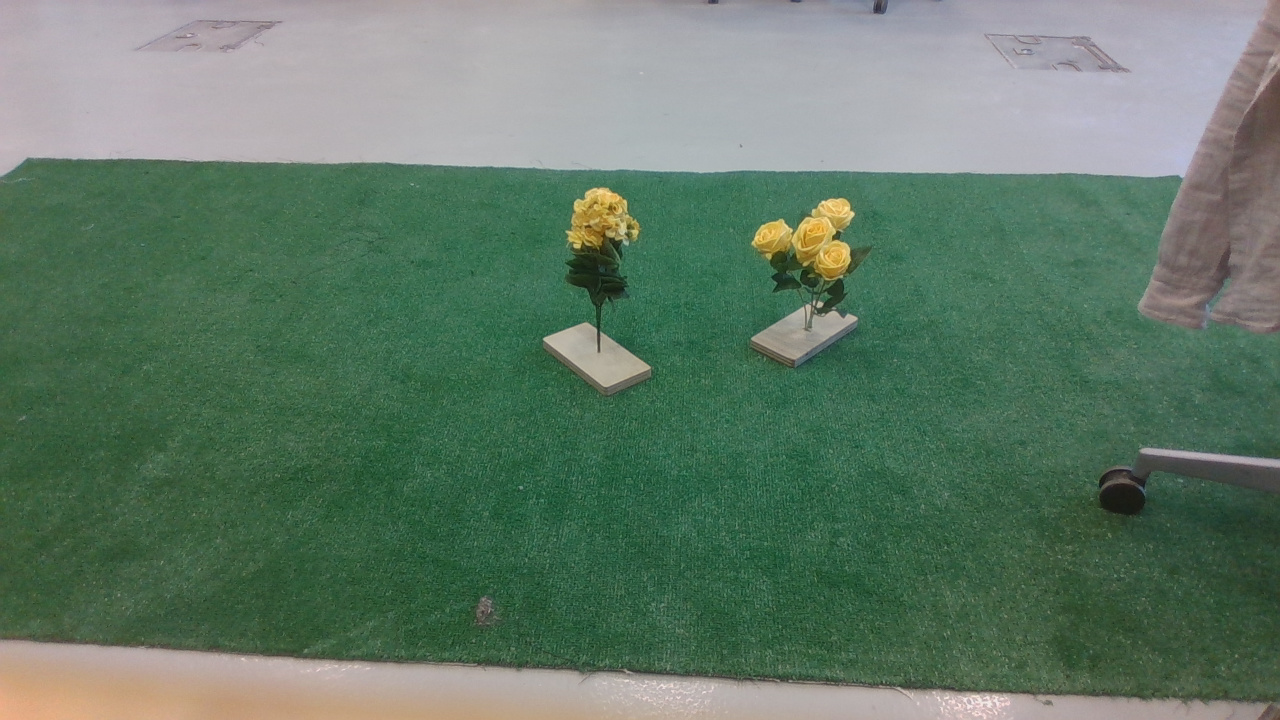geranium: (559, 187, 650, 323)
rose: (751, 201, 874, 310)
